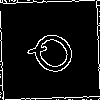Q: (25, 25, 87, 86)
